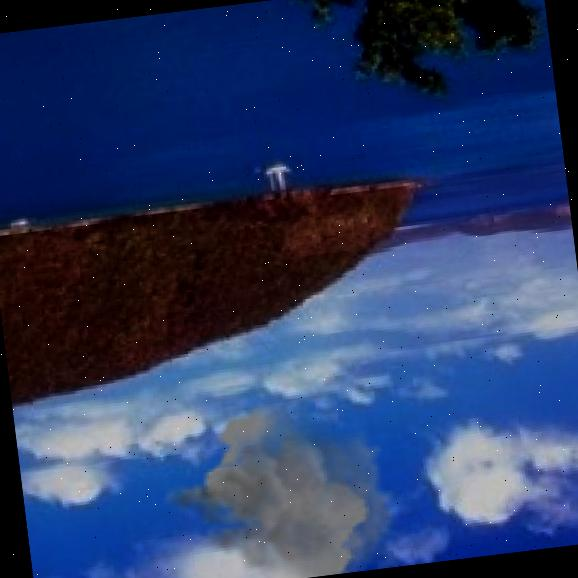smoke: (150, 387, 408, 578)
